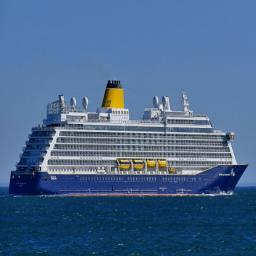cruises: (9, 77, 253, 201)
